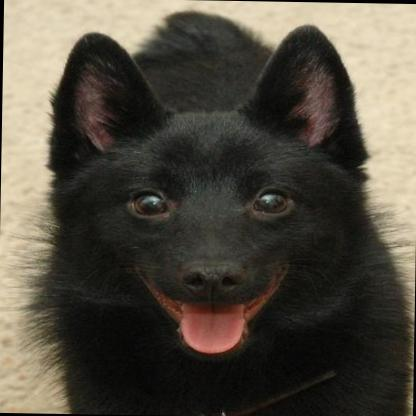schipperke: (36, 6, 415, 416)
